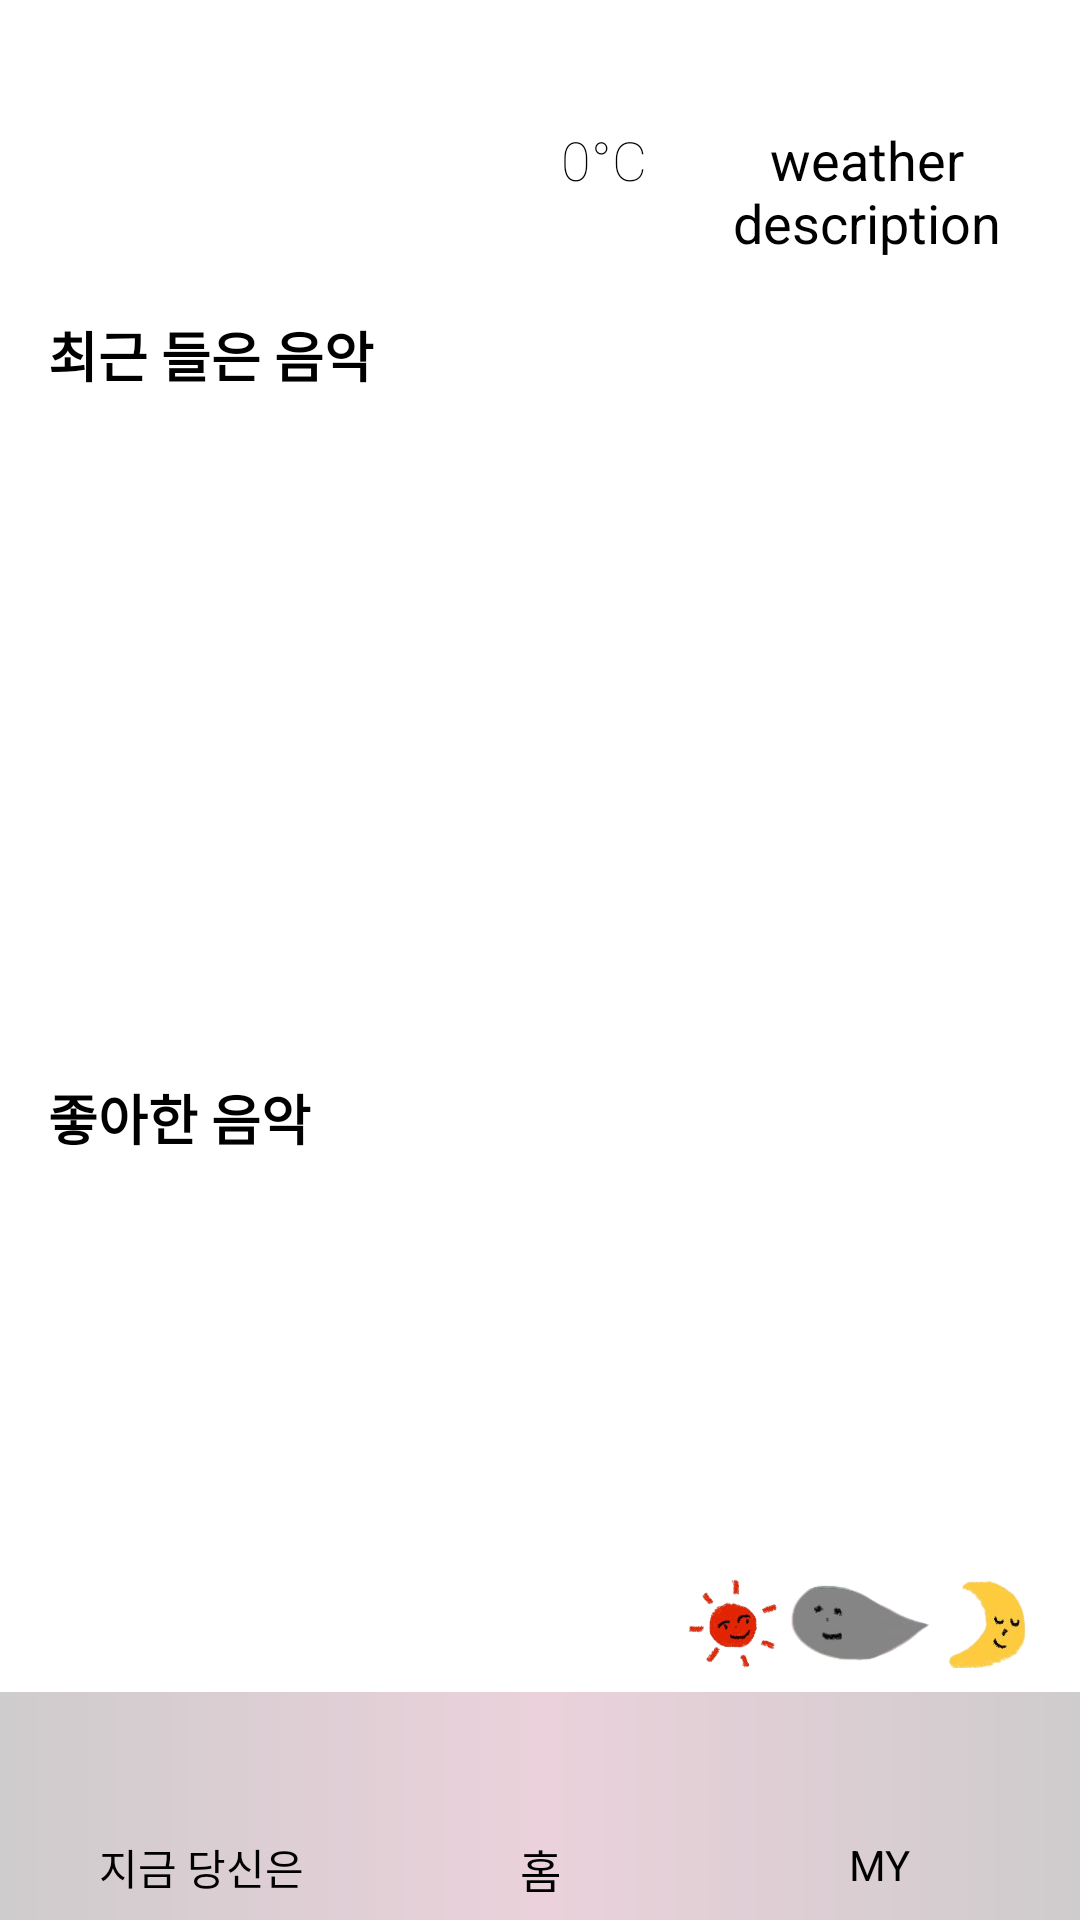

Named icons in this screenshot (1080px x 1920px) and their bounding boxes, {"x1": x1, "y1": y1, "x2": x2, "y2": y2}:
moon: {"x1": 949, "y1": 1581, "x2": 1025, "y2": 1668}
sun: {"x1": 689, "y1": 1579, "x2": 777, "y2": 1668}
